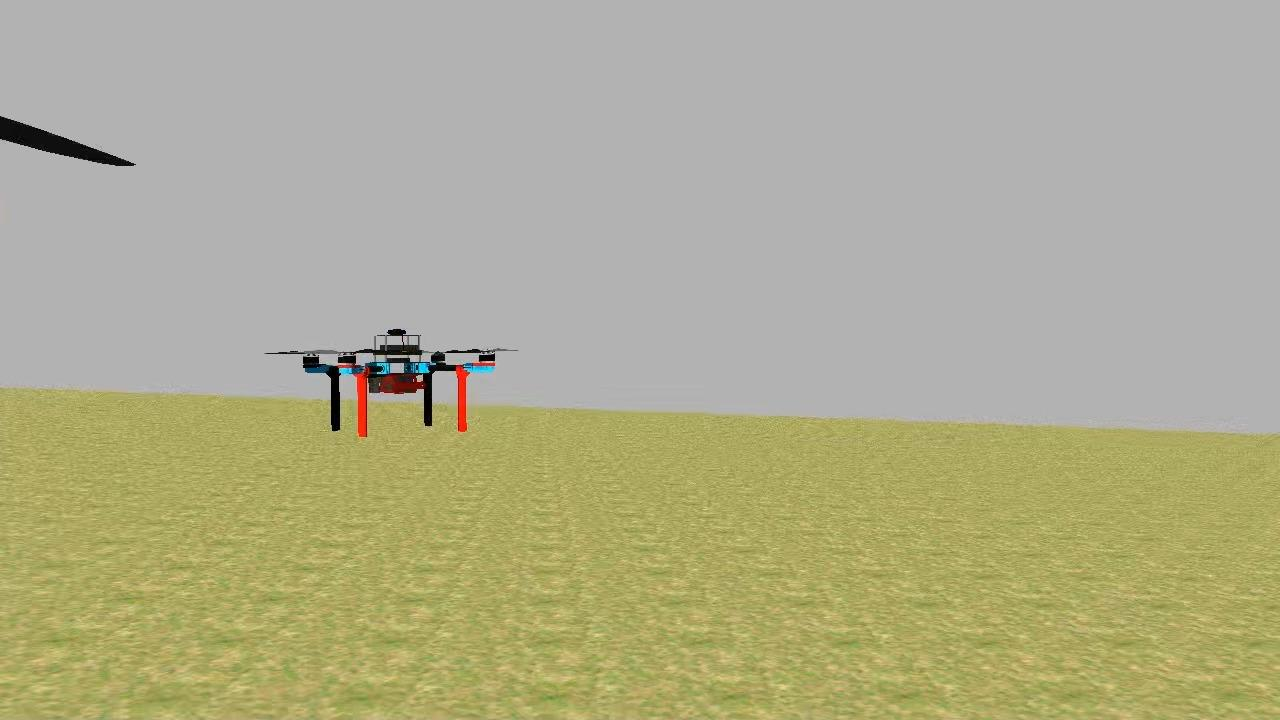UAV: (286, 322, 502, 440)
